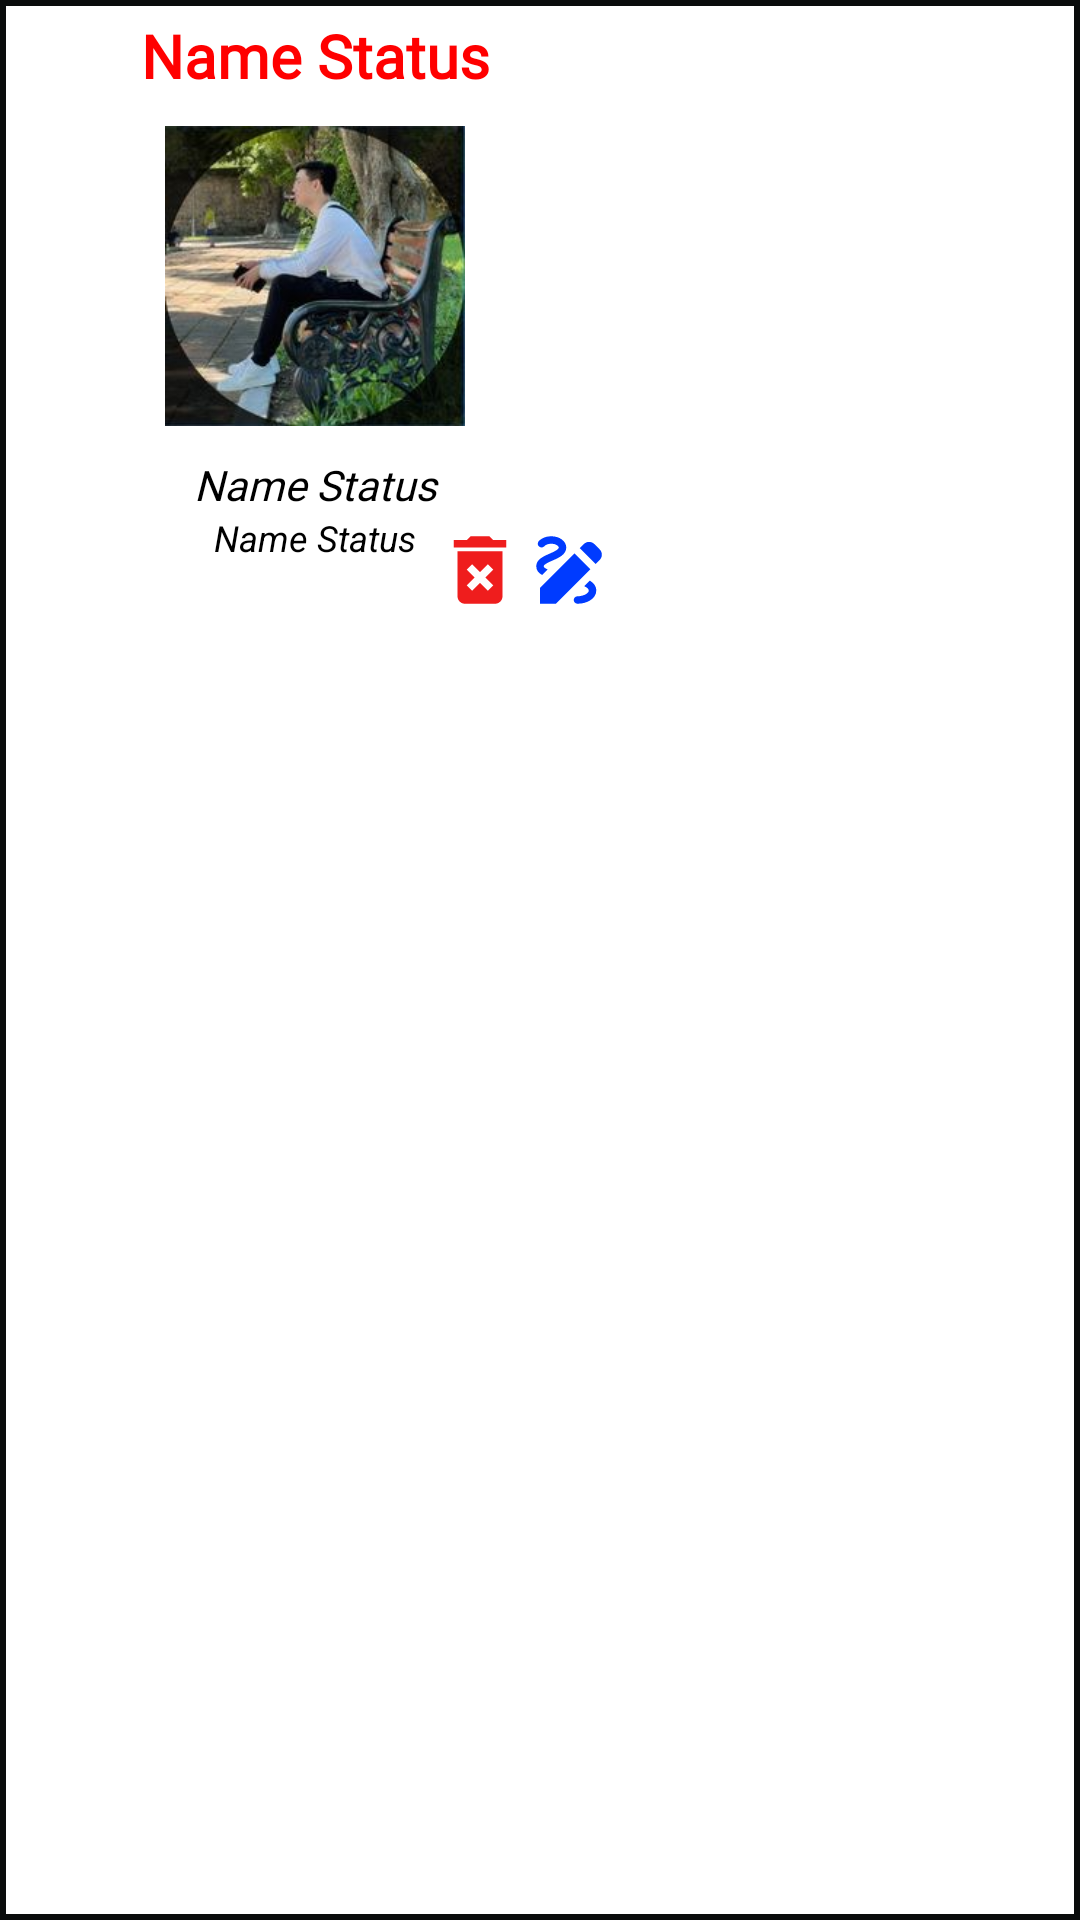

Named icons in this screenshot (1080px×1920px) and their bounding boxes, {"left": x1, "top": y1, "right": x2, "bottom": y2}:
delete: {"left": 453, "top": 536, "right": 507, "bottom": 604}
profile: {"left": 165, "top": 126, "right": 465, "bottom": 426}
updata: {"left": 536, "top": 536, "right": 602, "bottom": 604}
